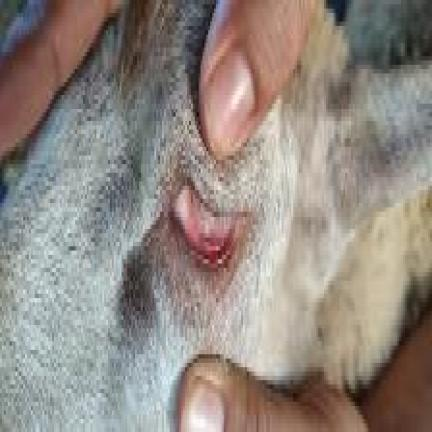goat-eye-anemia-22222222: (172, 186, 287, 341)
